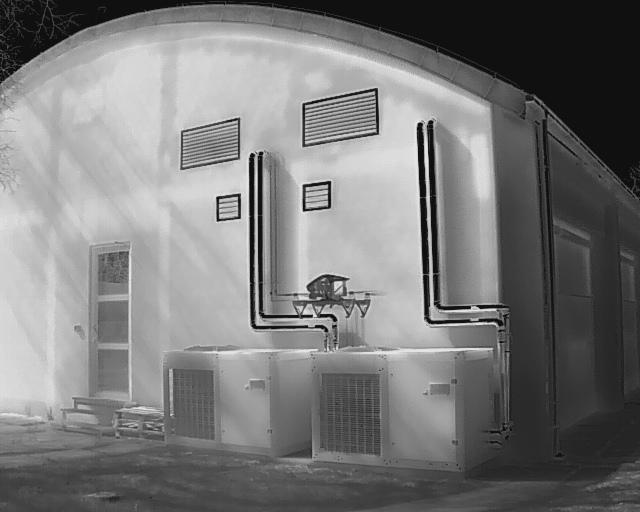drone: (273, 257, 382, 327)
